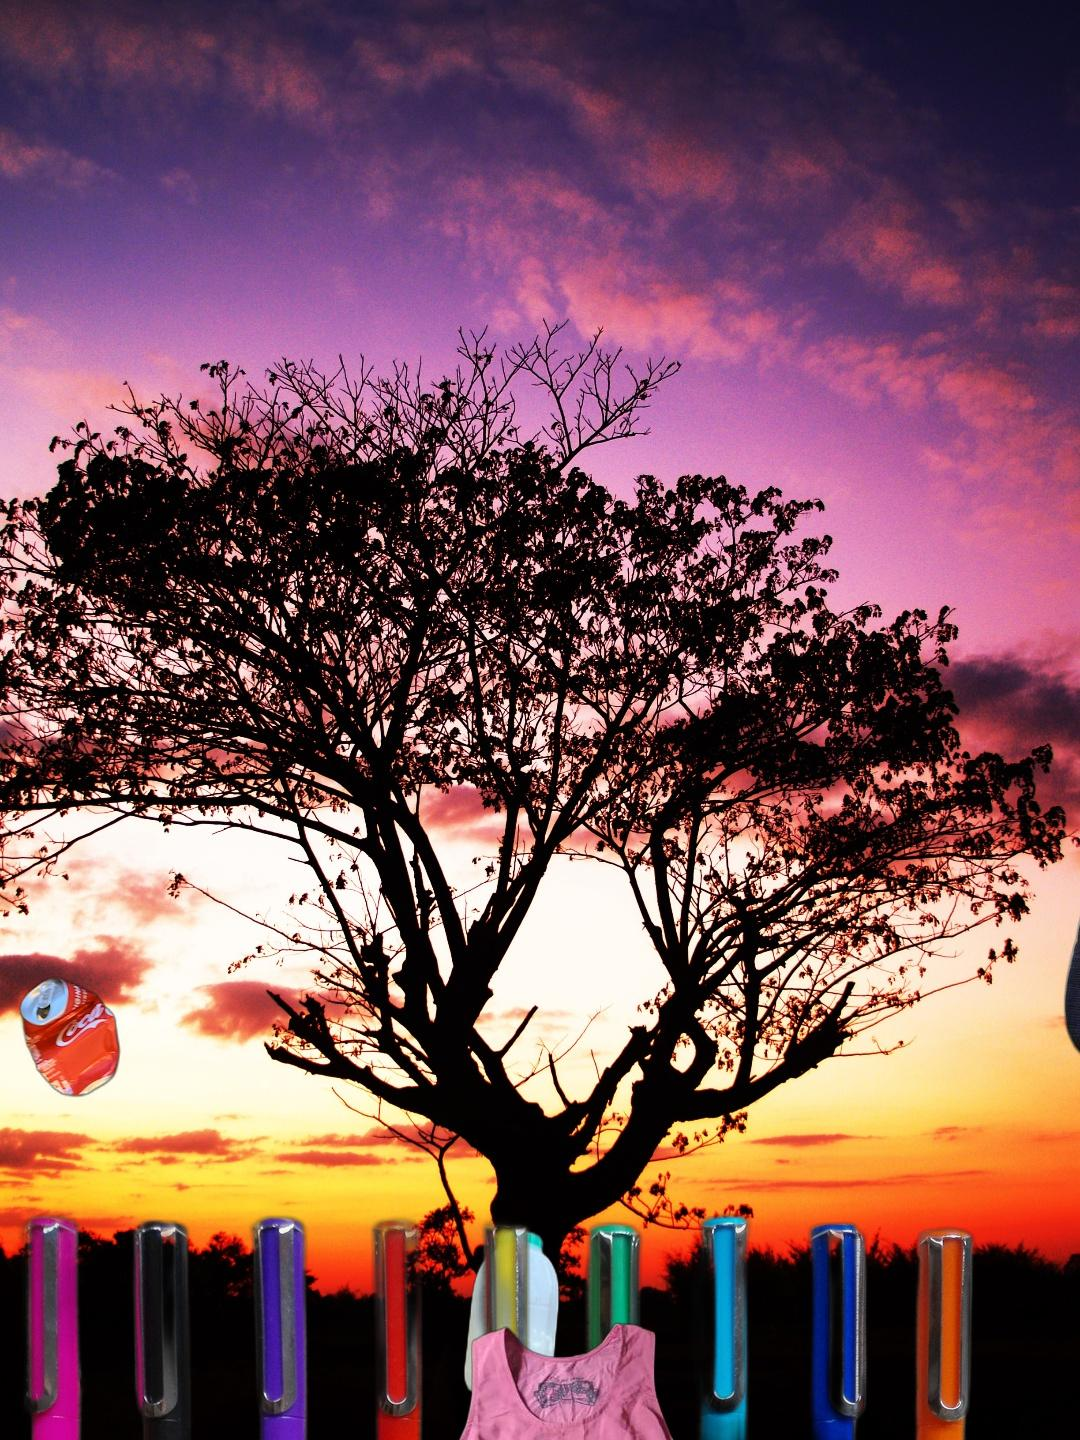clothes: (428, 1318, 773, 1440)
metal-cans: (15, 972, 124, 1103)
penholder: (12, 1208, 982, 1440)
plastic-bottles: (459, 1223, 564, 1405)
shoes: (1061, 804, 1080, 1110)
